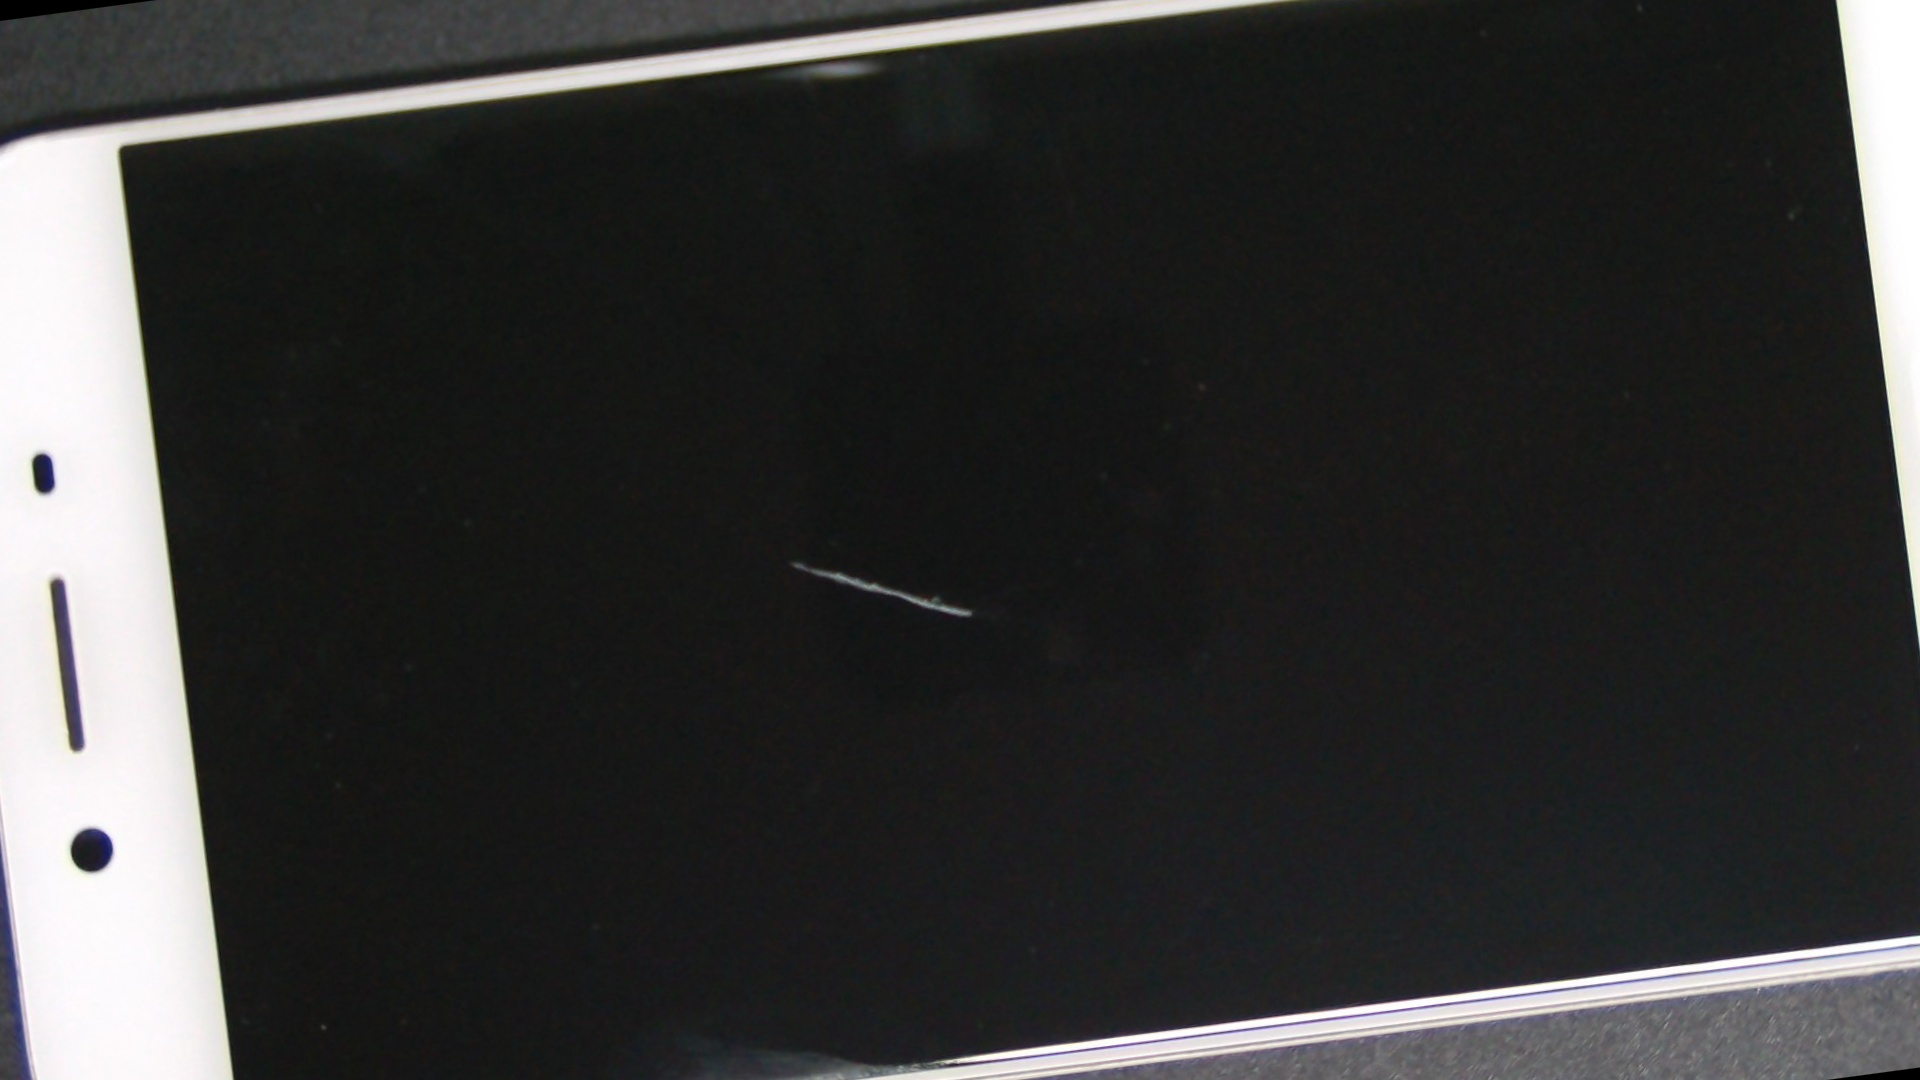oil: (310, 185, 1266, 936)
